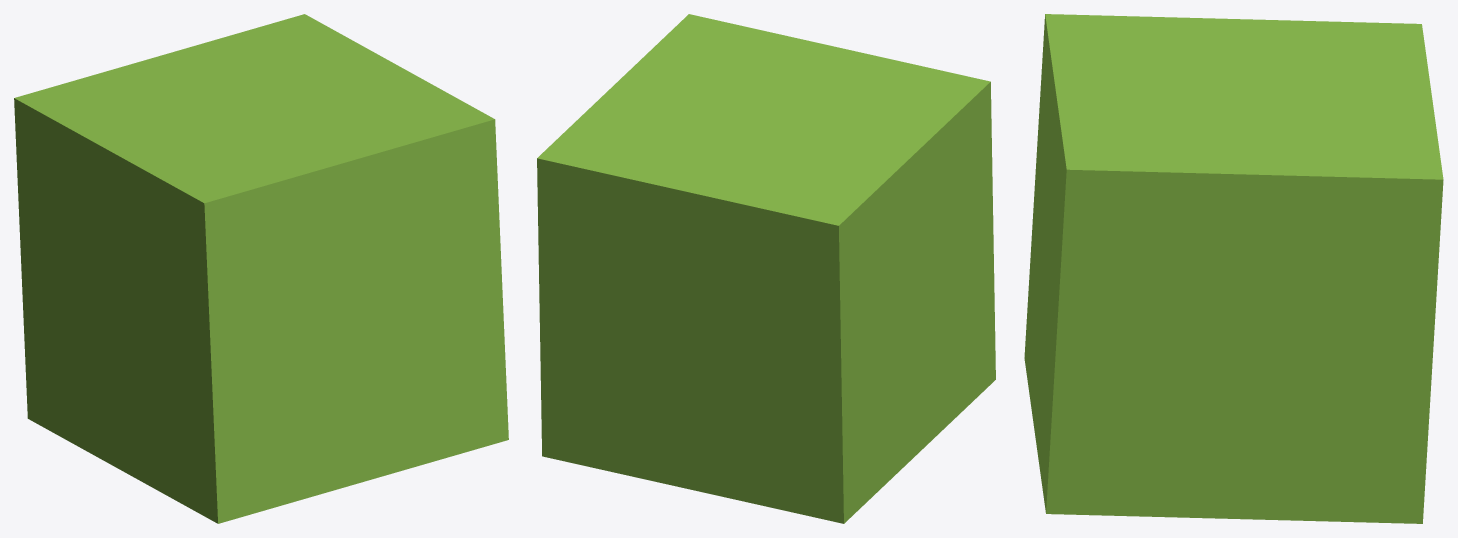
The model's file is greenCube.dae.
3 renders of one model, left to right at view 1: azimuth 30°, elevation 25°; view 2: azimuth 150°, elevation 25°; view 3: azimuth 270°, elevation 25°, orthographic. The views are drawn at different scales.
Visible parts, largest first — view 1: greenCube; view 2: greenCube; view 3: greenCube.
Boxes of the visible parts, x1=… form: greenCube: x1=14, y1=14, x2=508, y2=523; greenCube: x1=537, y1=14, x2=995, y2=523; greenCube: x1=1024, y1=14, x2=1443, y2=523.
Bounding box in the file's own units: 0.0855 × 0.0852 × 0.0887.
